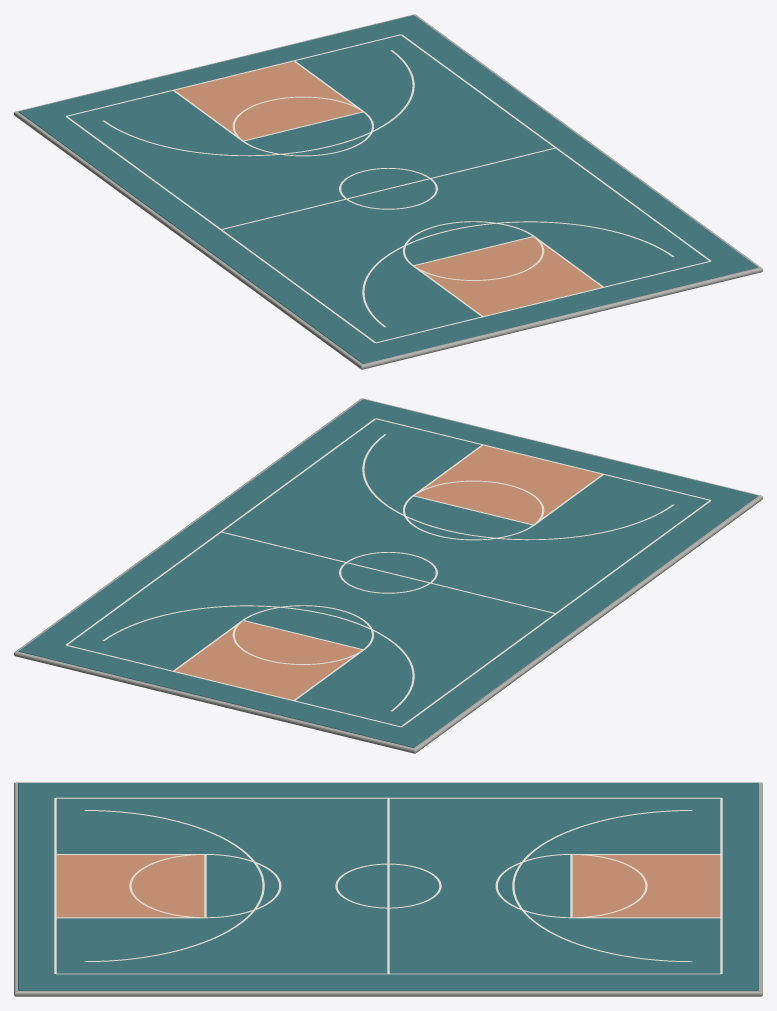
File: basketball_court.glb
3 views of the same model, one above another, from view 1: azimuth 30°, elevation 25°; view 2: azimuth 150°, elevation 25°; view 3: azimuth 270°, elevation 25° (orthographic). The views are drawn at different scales.
Visible parts, largest first — view 1: basketball_court_Mesh; view 2: basketball_court_Mesh; view 3: basketball_court_Mesh.
Part boxes in pixels (x1,y1,x2,y2): basketball_court_Mesh: (14,14,762,369); basketball_court_Mesh: (14,398,762,753); basketball_court_Mesh: (14,782,762,996).
Size of the model in its own units: 12 by 0.151 by 18.
